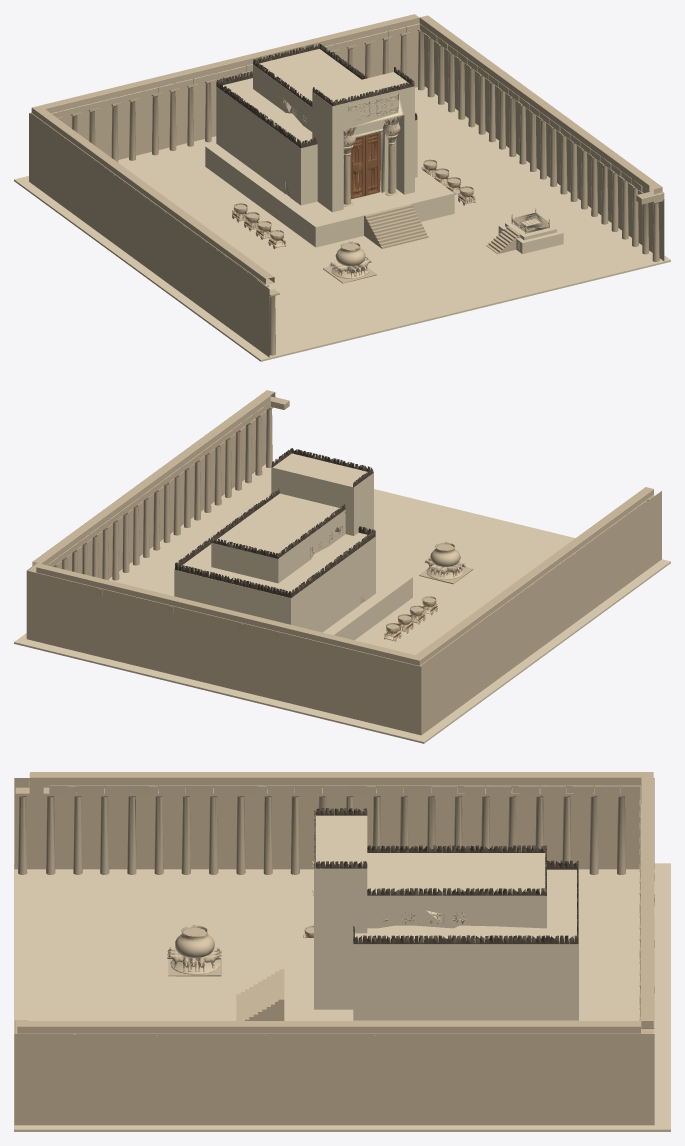
The model's file is first_temple_game.glb.
3 views of the same model, one above another, from view 1: azimuth 30°, elevation 25°; view 2: azimuth 150°, elevation 25°; view 3: azimuth 270°, elevation 25° (orthographic). The views are drawn at different scales.
Visible parts, largest first — view 1: FirstTempleOptimized; view 2: FirstTempleOptimized; view 3: FirstTempleOptimized.
Boxes of the visible parts, x1,y1,x2,y2 form: FirstTempleOptimized: (14, 14, 670, 361); FirstTempleOptimized: (14, 390, 670, 743); FirstTempleOptimized: (14, 772, 670, 1131).
Size of the model in its own units: 28.1 by 9.41 by 29.31.
